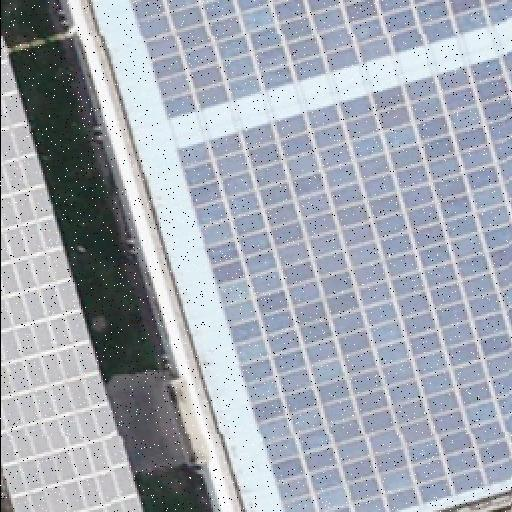solar-panel: (176, 48, 512, 512), (0, 33, 144, 511), (132, 0, 512, 120)
